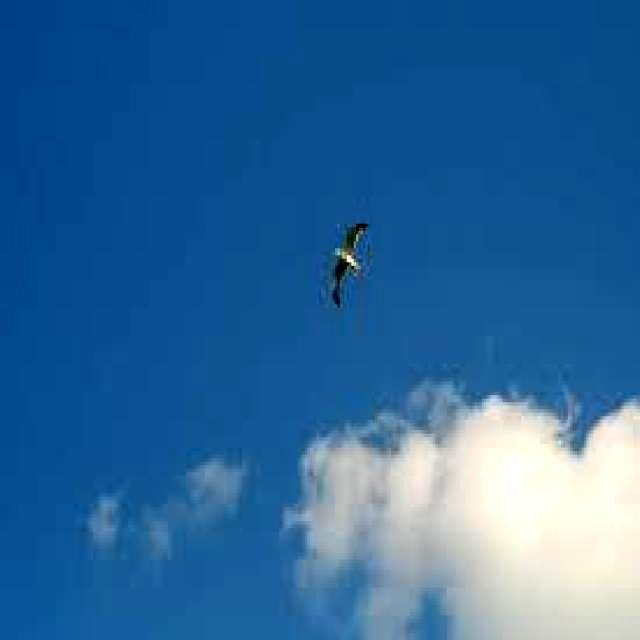bird: (326, 216, 368, 313)
